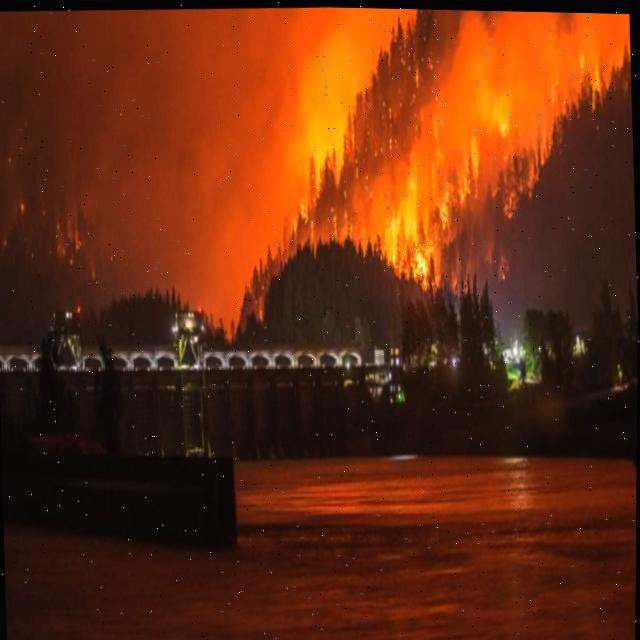fire: (384, 170, 448, 289)
smoke: (0, 5, 410, 344), (340, 8, 630, 278)
